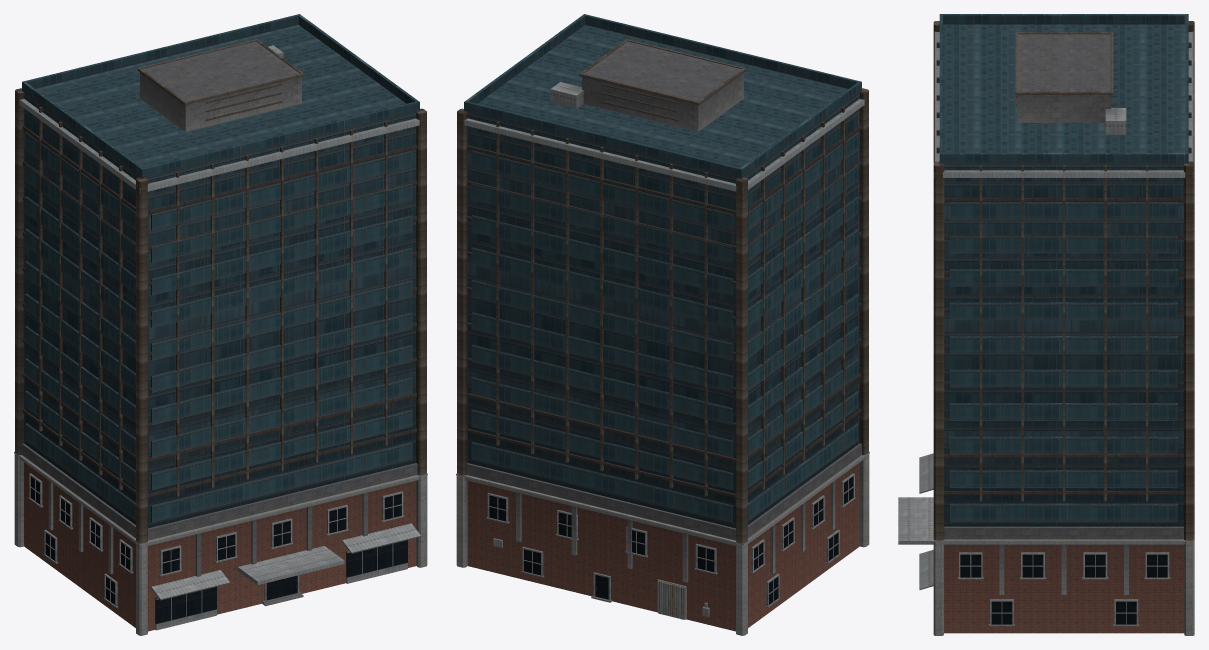
Rendered from eastern-market-flats_lod0.gltf.
3 renders of one model, left to right at view 1: azimuth 30°, elevation 25°; view 2: azimuth 150°, elevation 25°; view 3: azimuth 270°, elevation 25°, orthographic. The views are drawn at different scales.
Visible parts, largest first — view 1: eastern-market-flats_upper, eastern-market-flats_fen_07-glass-curtain-blue_0, eastern-market-flats__v4_metal_detail, eastern-market-flats__v4_stone_detail, eastern-market-flats_base, eastern-market-flats_fen_07-glass-curtain-blue_2_t, eastern-market-flats_fen_14-steel-panel_1, eastern-market-flats__cornice, eastern-market-flats__parapet_front, eastern-market-flats__parapet_back, eastern-market-flats__canopy, eastern-market-flats__parapet_left (+3 smaller); view 2: eastern-market-flats_upper, eastern-market-flats_fen_07-glass-curtain-blue_0, eastern-market-flats__v4_metal_detail, eastern-market-flats_base, eastern-market-flats__v4_stone_detail, eastern-market-flats__cornice, eastern-market-flats_fen_14-steel-panel_1, eastern-market-flats__parapet_back, eastern-market-flats_fen_07-glass-curtain-blue_2_t, eastern-market-flats__parapet_front, eastern-market-flats__parapet_left, eastern-market-flats__parapet_right (+2 smaller); view 3: eastern-market-flats_upper, eastern-market-flats_fen_07-glass-curtain-blue_0, eastern-market-flats__v4_metal_detail, eastern-market-flats_base, eastern-market-flats__v4_stone_detail, eastern-market-flats__cornice, eastern-market-flats_fen_07-glass-curtain-blue_2_t, eastern-market-flats__parapet_left, eastern-market-flats__parapet_right, eastern-market-flats_fen_14-steel-panel_1, eastern-market-flats__canopy, eastern-market-flats__parapet_front (+4 smaller).
Boxes of the visible parts, <box> form: eastern-market-flats_upper: <box>24,25,416,528</box>; eastern-market-flats_fen_07-glass-curtain-blue_0: <box>25,132,412,522</box>; eastern-market-flats__v4_metal_detail: <box>15,39,426,543</box>; eastern-market-flats__v4_stone_detail: <box>14,41,427,635</box>; eastern-market-flats_base: <box>24,462,416,631</box>; eastern-market-flats_fen_07-glass-curtain-blue_2_t: <box>30,476,407,623</box>; eastern-market-flats_fen_14-steel-panel_1: <box>28,473,407,630</box>; eastern-market-flats__cornice: <box>19,99,419,193</box>; eastern-market-flats__parapet_front: <box>140,101,419,178</box>; eastern-market-flats__parapet_back: <box>22,14,300,91</box>; eastern-market-flats__canopy: <box>237,546,344,584</box>; eastern-market-flats__parapet_left: <box>23,82,142,177</box>; eastern-market-flats_upper: <box>467,25,859,528</box>; eastern-market-flats_fen_07-glass-curtain-blue_0: <box>471,132,858,522</box>; eastern-market-flats__v4_metal_detail: <box>457,39,868,543</box>; eastern-market-flats_base: <box>467,462,859,631</box>; eastern-market-flats__v4_stone_detail: <box>456,41,869,635</box>; eastern-market-flats__cornice: <box>464,99,864,193</box>; eastern-market-flats_fen_14-steel-panel_1: <box>486,473,855,619</box>; eastern-market-flats__parapet_back: <box>464,101,743,178</box>; eastern-market-flats_fen_07-glass-curtain-blue_2_t: <box>489,476,853,604</box>; eastern-market-flats__parapet_front: <box>583,14,861,91</box>; eastern-market-flats__parapet_left: <box>741,82,860,177</box>; eastern-market-flats__parapet_right: <box>466,15,585,103</box>; eastern-market-flats_upper: <box>943,24,1185,526</box>; eastern-market-flats_fen_07-glass-curtain-blue_0: <box>950,202,1178,521</box>; eastern-market-flats__v4_metal_detail: <box>933,21,1194,540</box>; eastern-market-flats_base: <box>944,545,1184,633</box>; eastern-market-flats__v4_stone_detail: <box>933,34,1194,635</box>; eastern-market-flats__cornice: <box>934,31,1193,177</box>; eastern-market-flats_fen_07-glass-curtain-blue_2_t: <box>960,554,1167,624</box>; eastern-market-flats__parapet_left: <box>943,14,1185,24</box>; eastern-market-flats__parapet_right: <box>943,153,1185,163</box>; eastern-market-flats_fen_14-steel-panel_1: <box>958,552,1170,626</box>; eastern-market-flats__canopy: <box>898,497,933,544</box>; eastern-market-flats__parapet_front: <box>939,14,942,163</box>.
Bounding box in the file's own units: 33.19 × 53.3 × 28.59.
